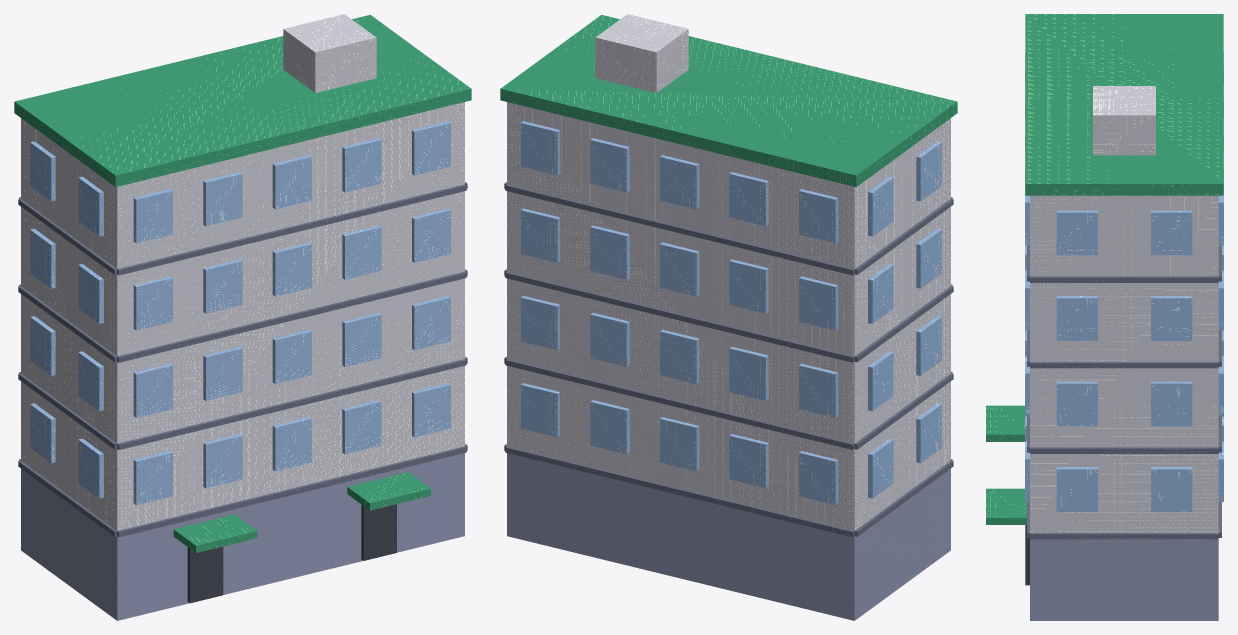
Rendered from panel-a.glb.
The picture shows the model from 3 angles, left to right: view 1: azimuth 30°, elevation 25°; view 2: azimuth 150°, elevation 25°; view 3: azimuth 270°, elevation 25°; orthographic projection. The views are drawn at different scales.
Visible parts, largest first — view 1: panel-a; view 2: panel-a; view 3: panel-a.
Part boxes in pixels (box(x1,y1,x2,y2)): panel-a: box(14, 14, 471, 620); panel-a: box(500, 14, 957, 620); panel-a: box(986, 14, 1223, 620).
Bounding box in the file's own units: 1.28 × 1.68 × 0.756.
Materials: 1 (1 with a texture image).
